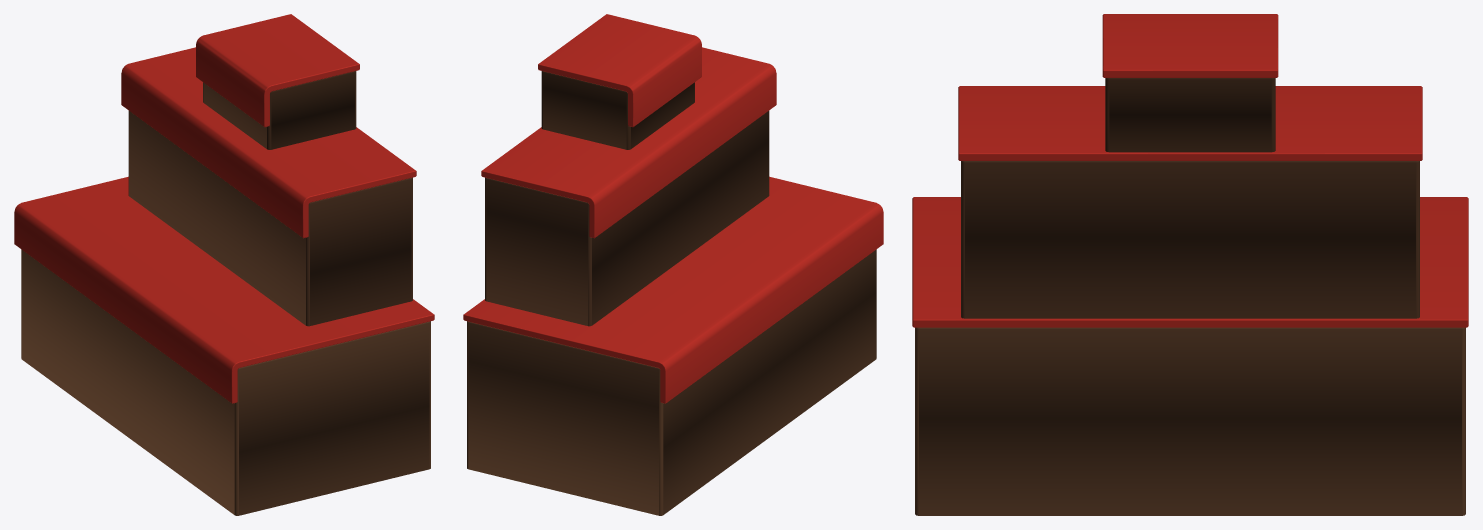
Rendered from catstand.glb.
The picture shows the model from 3 angles, left to right: view 1: azimuth 30°, elevation 25°; view 2: azimuth 150°, elevation 25°; view 3: azimuth 270°, elevation 25°; orthographic projection. The views are drawn at different scales.
Parts seen in each view (by area): view 1: CatStep1, CatFelt1, CatStep2, CatFelt2, CatFelt3, CatStep3; view 2: CatStep1, CatFelt1, CatStep2, CatFelt2, CatFelt3, CatStep3; view 3: CatStep1, CatStep2, CatFelt2, CatFelt1, CatStep3, CatFelt3.
Boxes of the visible parts, x1=… form: CatStep1: x1=21, y1=249, x2=430, y2=515; CatFelt1: x1=14, y1=176, x2=434, y2=403; CatStep2: x1=128, y1=111, x2=412, y2=326; CatFelt2: x1=121, y1=47, x2=416, y2=238; CatFelt3: x1=196, y1=14, x2=359, y2=126; CatStep3: x1=203, y1=71, x2=356, y2=149; CatStep1: x1=467, y1=249, x2=876, y2=515; CatFelt1: x1=463, y1=176, x2=883, y2=403; CatStep2: x1=485, y1=111, x2=769, y2=326; CatFelt2: x1=481, y1=47, x2=776, y2=238; CatFelt3: x1=538, y1=14, x2=701, y2=126; CatStep3: x1=541, y1=71, x2=694, y2=149; CatStep1: x1=915, y1=327, x2=1465, y2=515; CatStep2: x1=961, y1=161, x2=1419, y2=318; CatFelt2: x1=958, y1=86, x2=1422, y2=160; CatFelt1: x1=912, y1=197, x2=1468, y2=327; CatStep3: x1=1105, y1=78, x2=1275, y2=152; CatFelt3: x1=1102, y1=14, x2=1278, y2=77.
Bounding box in the file's own units: 0.456 × 0.752 × 0.848.
